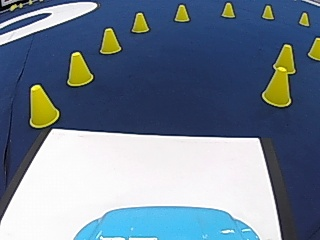cone: (28, 83, 60, 127), (261, 62, 293, 106), (65, 50, 93, 86), (273, 43, 296, 74), (98, 27, 121, 54), (131, 11, 149, 33), (173, 3, 189, 22), (307, 36, 319, 60), (220, 1, 235, 18), (261, 3, 274, 19), (298, 11, 309, 26)
